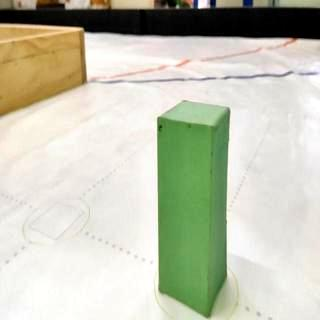greenbox: (156, 97, 232, 320)
